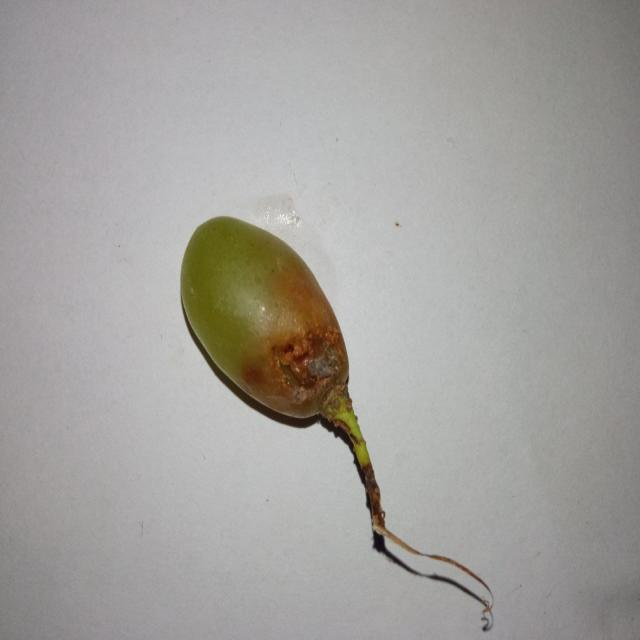rotten_grape: (180, 215, 351, 425)
